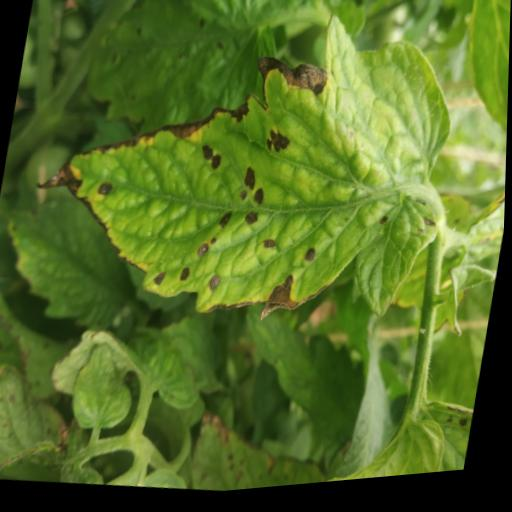Early Blight: (11, 0, 475, 368)
